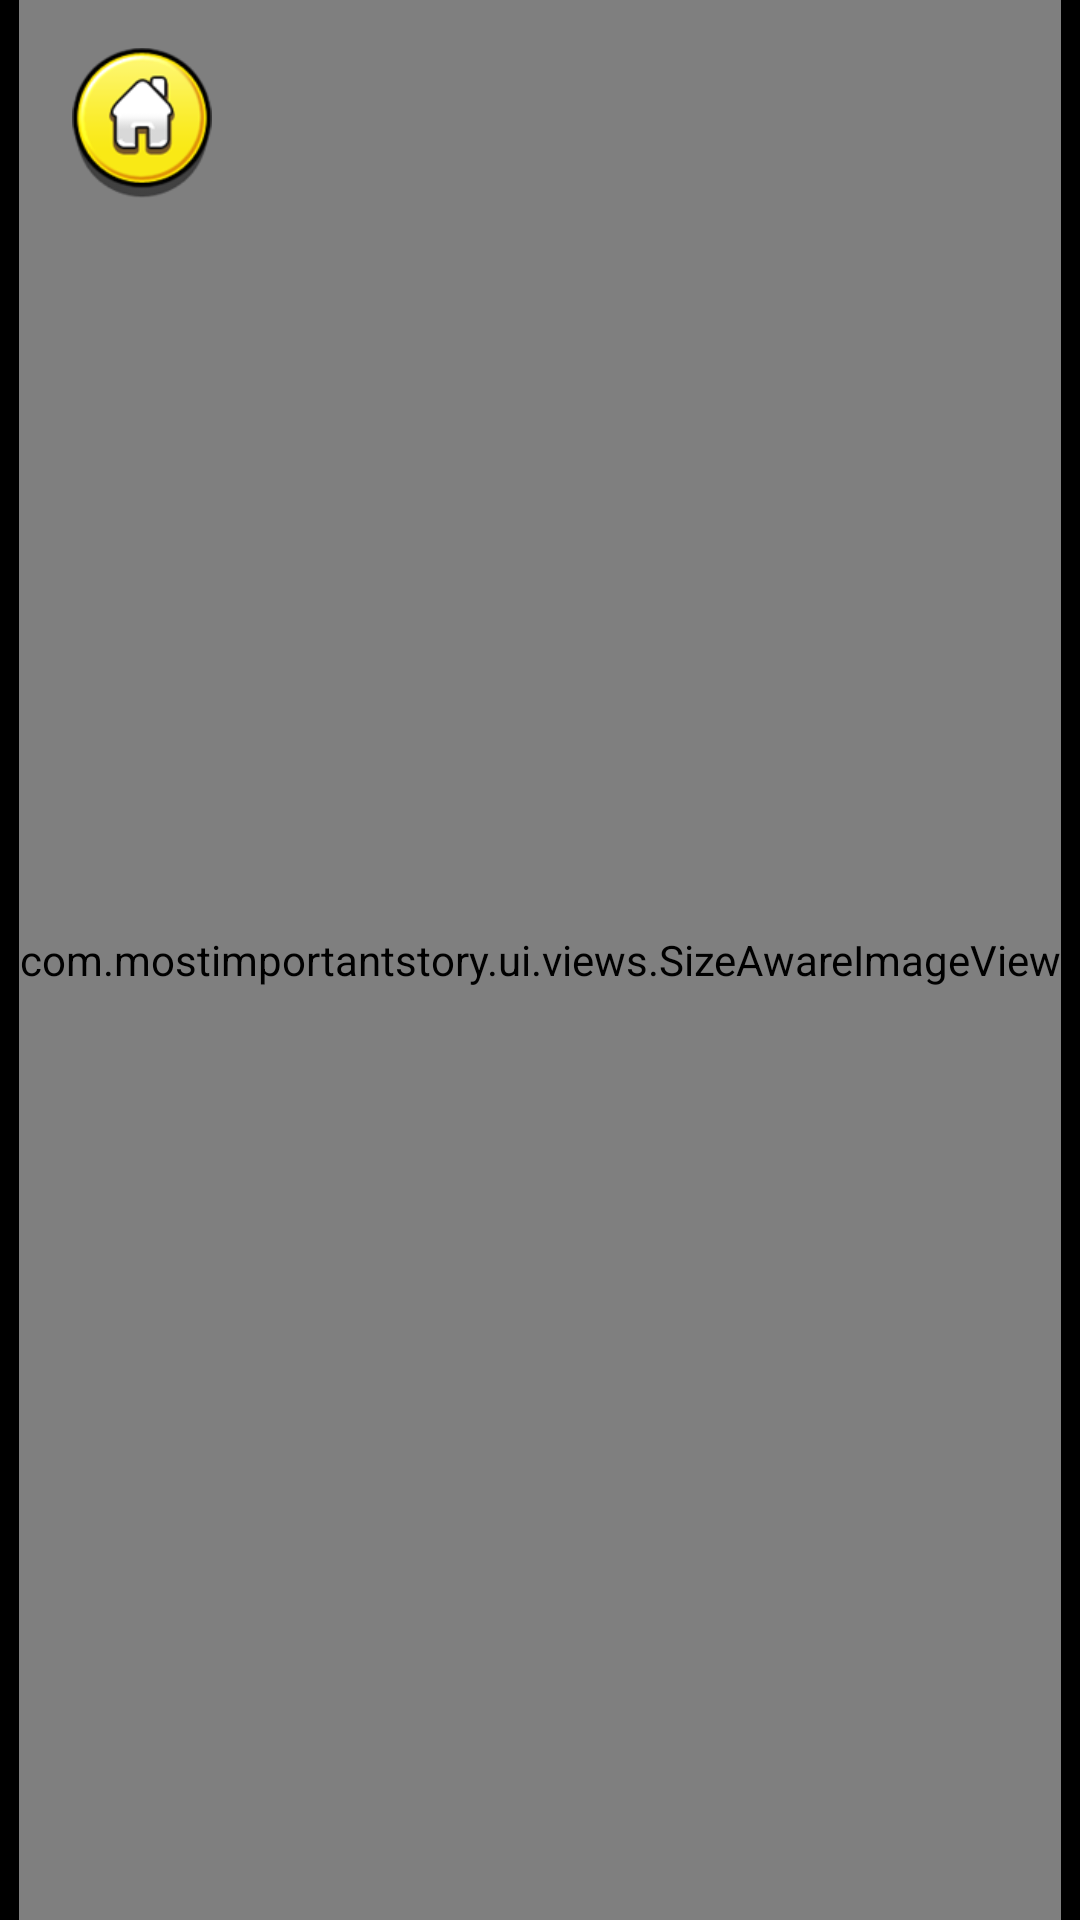

Point at icon controls on the screen. Image size 1080px x 1920px, points as (x,y).
home: (142,122)
